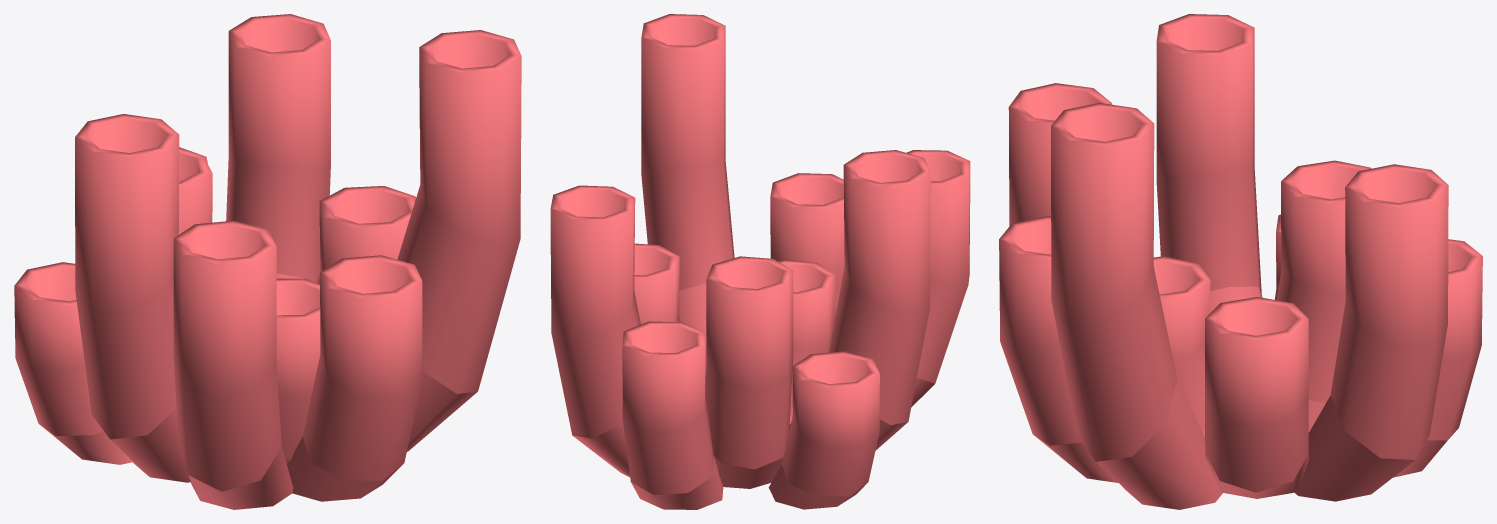
Rendered from SandTubes.fbx.
3 views of the same model, side by side, from view 1: azimuth 30°, elevation 25°; view 2: azimuth 150°, elevation 25°; view 3: azimuth 270°, elevation 25° (orthographic). The views are drawn at different scales.
Parts seen in each view (by area): view 1: SandTubes_Item_LOD0, SandTubes_Base_LOD0; view 2: SandTubes_Item_LOD0, SandTubes_Base_LOD0; view 3: SandTubes_Item_LOD0, SandTubes_Base_LOD0.
Boxes of the visible parts, x1,y1,x2,y2 form: SandTubes_Item_LOD0: (14, 14, 521, 491); SandTubes_Base_LOD0: (40, 273, 477, 509); SandTubes_Item_LOD0: (550, 14, 970, 496); SandTubes_Base_LOD0: (573, 283, 934, 509); SandTubes_Item_LOD0: (999, 14, 1482, 492); SandTubes_Base_LOD0: (1034, 286, 1447, 509).
Size of what is drawn, in the model's own units: 0.4191 by 0.4258 by 0.4672.
